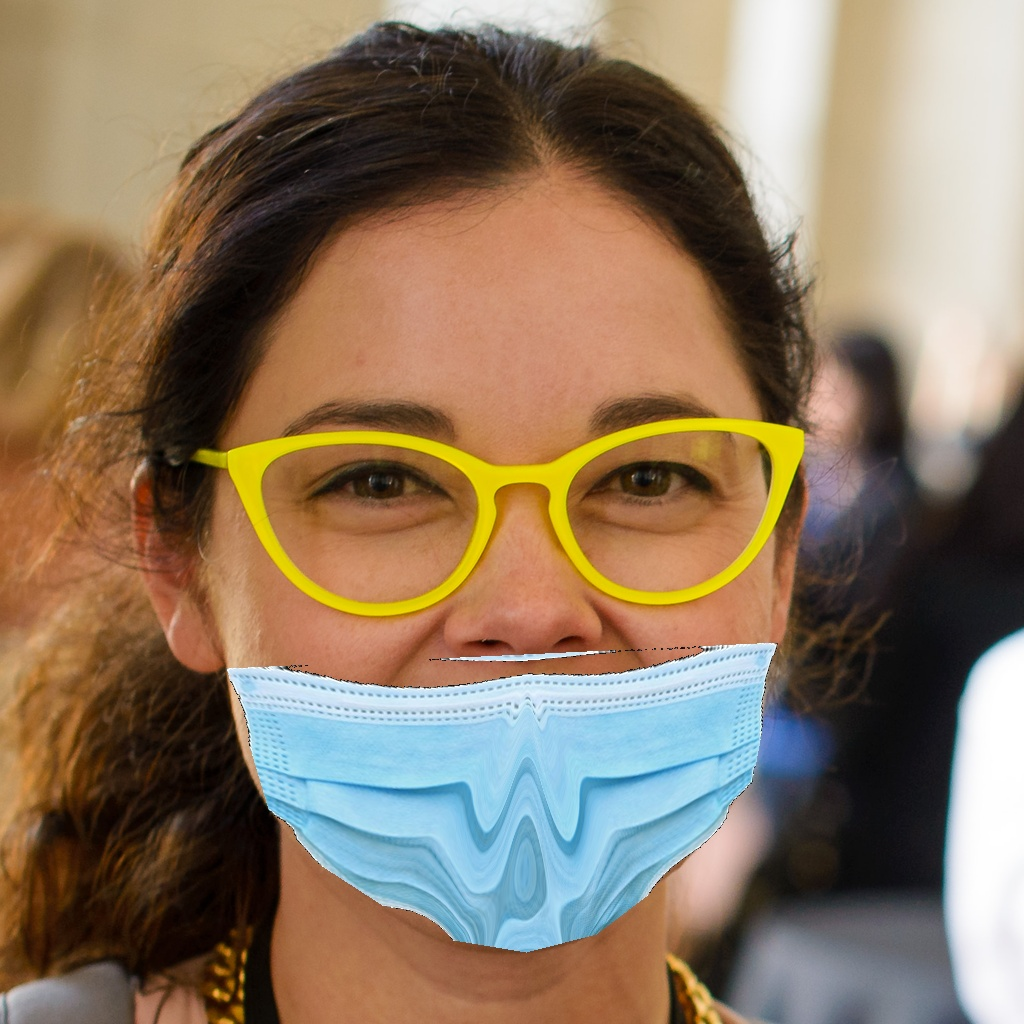mask_weared_incorrect: (193, 368, 819, 951)
